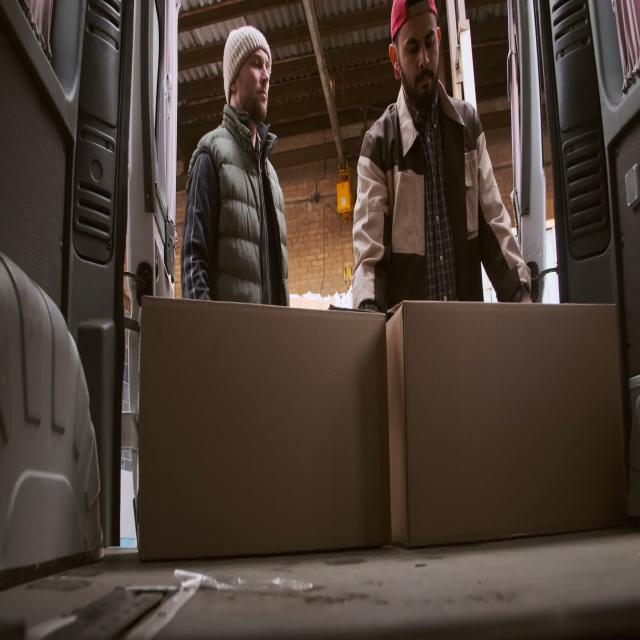counting-the-number-of-boxes: (136, 297, 389, 559), (384, 294, 632, 546)
